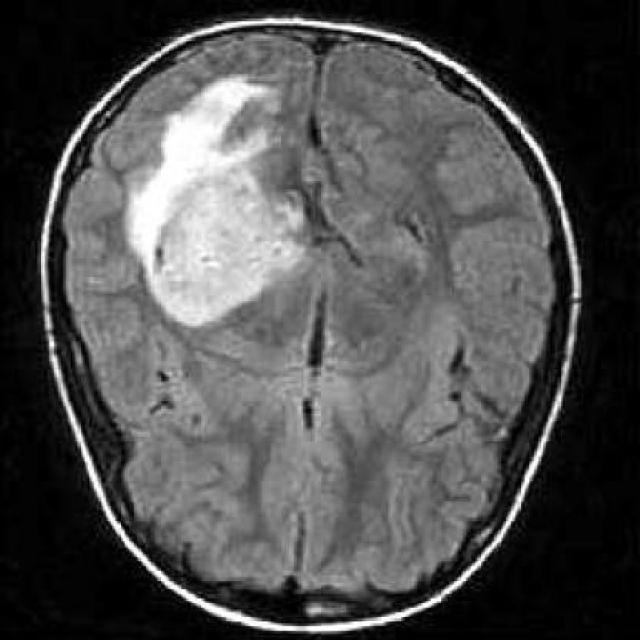Tumor: (120, 104, 300, 284)
